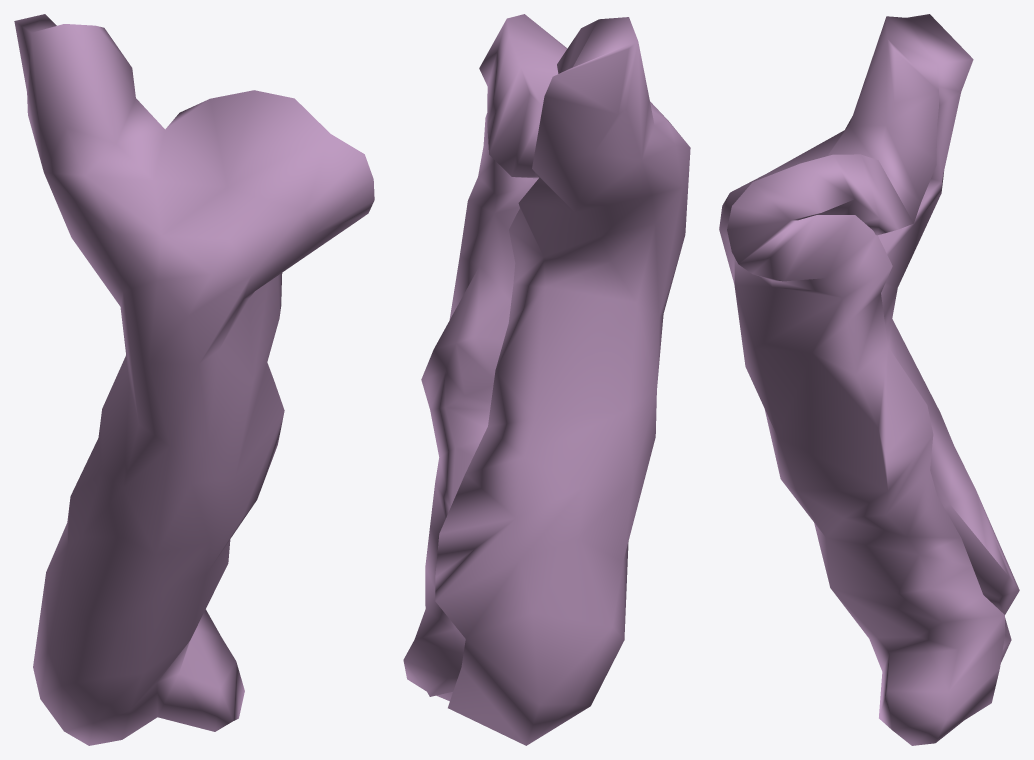
3 views of the same model, side by side, from view 1: azimuth 30°, elevation 25°; view 2: azimuth 150°, elevation 25°; view 3: azimuth 270°, elevation 25° (orthographic). The views are drawn at different scales.
Parts seen in each view (by area): view 1: 左侧枕颞沟外侧部; view 2: 左侧枕颞沟外侧部; view 3: 左侧枕颞沟外侧部.
Boxes of the visible parts, left/top/right/bottom form: 左侧枕颞沟外侧部: left=14, top=14, right=374, bottom=745; 左侧枕颞沟外侧部: left=403, top=14, right=690, bottom=745; 左侧枕颞沟外侧部: left=719, top=14, right=1019, bottom=745.
Size of the model in its own units: 0.0192 by 0.0568 by 0.0235.
